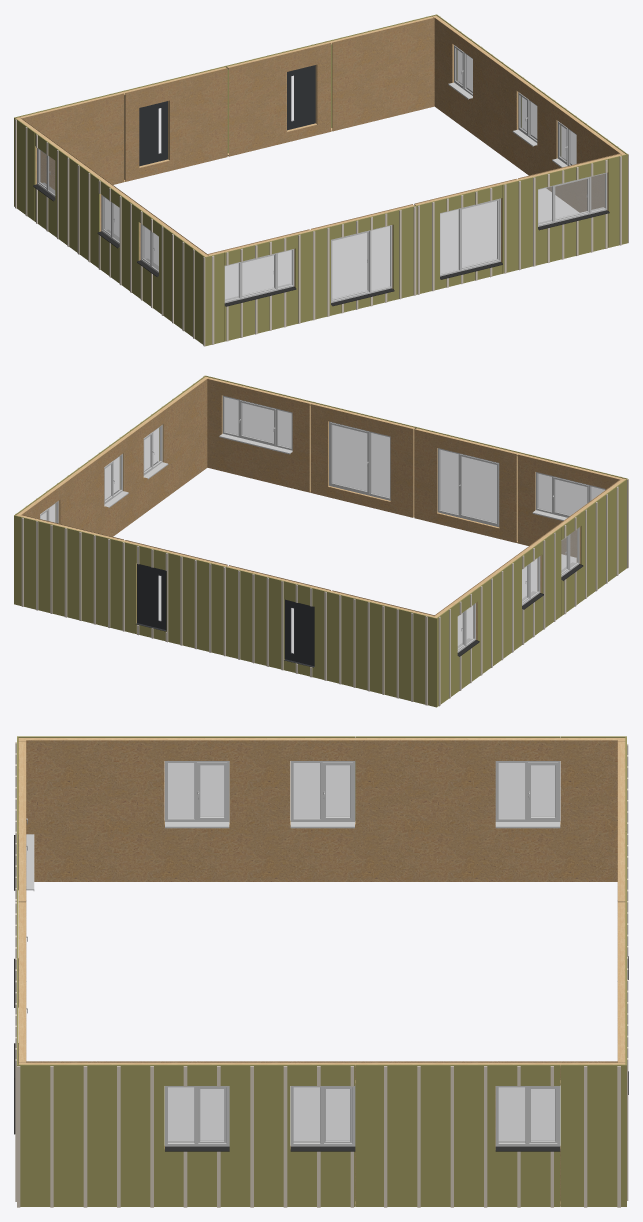
File: Fassaadi_isolatsioon.glb
3 renders of one model, top to bottom at view 1: azimuth 30°, elevation 25°; view 2: azimuth 150°, elevation 25°; view 3: azimuth 270°, elevation 25°, orthographic. The views are drawn at different scales.
Visible parts, largest first — view 1: OSB_Plaat_053 (×2), Fassaadsein_Tuuletoke_046 (×2), Fassaadsein_Tuuletoke_045 (×2), OSB_Plaat_045, Aken_Tava_121 (×2), Aken_Tava_120 (×2), Roovitus_30x70_046 (×2), Aken_Tava_117 (×6), Roovitus_30x70_045, Uks_020 (×2), Pruss 45x145_402 (×2), Pruss 45x145_410 (×2) (+2 smaller); view 2: Fassaadsein_Tuuletoke_053 (×2), OSB_Plaat_046 (×2), Fassaadsein_Tuuletoke_045 (×2), OSB_Plaat_045, Aken_Tava_121 (×2), Roovitus_30x70_053, Aken_Tava_120 (×2), Aken_Tava_117 (×5), Uks_020 (×2), Roovitus_30x70_045, Pruss 45x145_402 (×2), Pruss 45x145_410 (×2) (+1 smaller); view 3: OSB_Plaat_045 (×2), Fassaadsein_Tuuletoke_045 (×2), Aken_Tava_117 (×6), Roovitus_30x70_045, Pruss 45x145_402 (×2), Pruss 45x145_410 (×2), Pruss 45x145_458 (×2), Roovitus_30x70_053, Aken_Tava_120.
Part boxes in pixels (x1,y1,x2,y2): OSB_Plaat_053 (×2): (22,17,434,189); Fassaadsein_Tuuletoke_046 (×2): (206,154,627,345); Fassaadsein_Tuuletoke_045 (×2): (14,14,627,346); OSB_Plaat_045: (434,18,620,212); Aken_Tava_121 (×2): (331,198,502,306); Aken_Tava_120 (×2): (224,173,609,306); Roovitus_30x70_046 (×2): (212,156,621,344); Aken_Tava_117 (×6): (33,45,576,276); Roovitus_30x70_045: (15,119,205,346); Uks_020 (×2): (139,65,315,166); Pruss 45x145_402 (×2): (16,15,625,256); Pruss 45x145_410 (×2): (208,154,621,255); Fassaadsein_Tuuletoke_053 (×2): (14,515,435,707); OSB_Plaat_046 (×2): (207,379,619,557); Fassaadsein_Tuuletoke_045 (×2): (14,375,627,707); OSB_Plaat_045: (22,379,207,536); Aken_Tava_121 (×2): (329,421,499,527); Roovitus_30x70_053: (21,518,427,705); Aken_Tava_120 (×2): (219,395,605,520); Aken_Tava_117 (×5): (104,425,583,656); Uks_020 (×2): (136,564,314,667); Roovitus_30x70_045: (438,479,628,706); Pruss 45x145_402 (×2): (16,376,625,617); Pruss 45x145_410 (×2): (208,377,621,479); OSB_Plaat_045 (×2): (26,740,617,1200); Fassaadsein_Tuuletoke_045 (×2): (17,736,626,1206); Aken_Tava_117 (×6): (165,761,560,1151); Roovitus_30x70_045: (17,1066,620,1207); Pruss 45x145_402 (×2): (18,738,625,1067); Pruss 45x145_410 (×2): (18,741,25,1062); Pruss 45x145_458 (×2): (618,741,625,1062); Roovitus_30x70_053: (627,744,628,1200); Aken_Tava_120: (14,818,34,890).
Size of the model in its own units: 15.65 by 3.12 by 12.27.
Materials: 11 (2 with a texture image).
